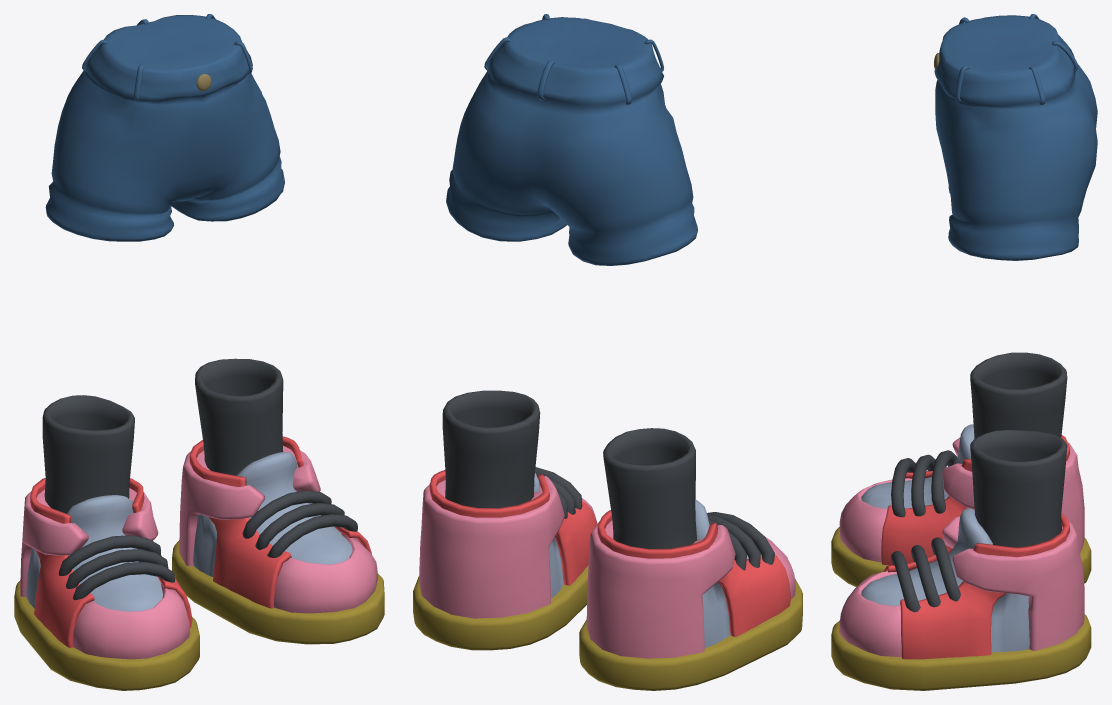
File: pants3_l.fbx
The picture shows the model from 3 angles, left to right: view 1: azimuth 30°, elevation 25°; view 2: azimuth 150°, elevation 25°; view 3: azimuth 270°, elevation 25°; orthographic projection. The views are drawn at different scales.
Visible parts, largest first — view 1: pants3_l; view 2: pants3_l; view 3: pants3_l.
Part boxes in pixels (bbox=[...]): pants3_l: bbox=[14, 14, 384, 690]; pants3_l: bbox=[413, 14, 802, 690]; pants3_l: bbox=[831, 14, 1097, 690].
Size of the model in its own units: 45.79 by 77.02 by 32.47.
